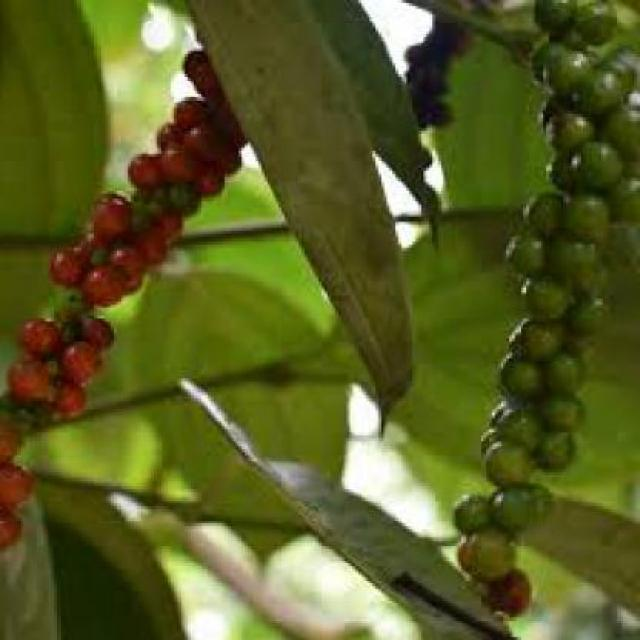RIPE: (3, 48, 260, 564)
UNRIPE: (466, 5, 639, 626)
